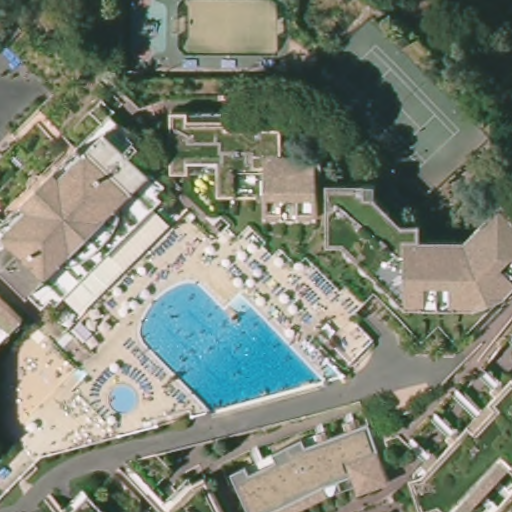pool: (137, 280, 327, 413), (97, 378, 144, 420)
